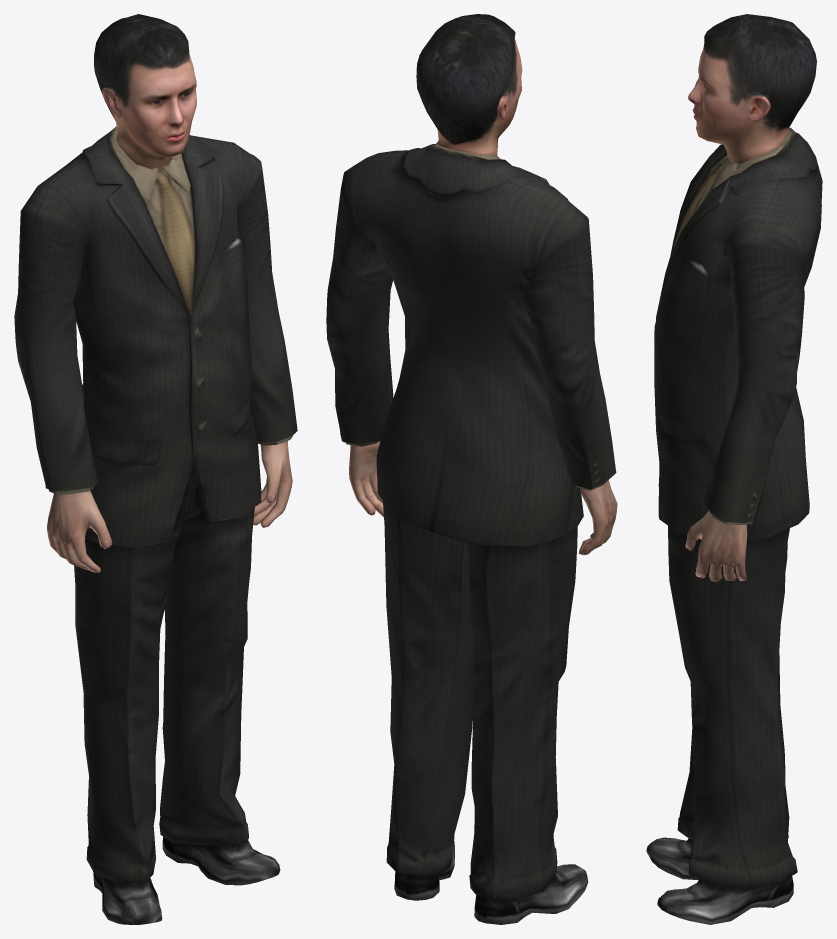
File: man.gltf
The picture shows the model from 3 angles, left to right: view 1: azimuth 30°, elevation 25°; view 2: azimuth 150°, elevation 25°; view 3: azimuth 270°, elevation 25°; orthographic projection. The views are drawn at different scales.
Parts seen in each view (by area): view 1: Lo-办公男_01; view 2: Lo-办公男_01; view 3: Lo-办公男_01.
Boxes of the visible parts, left/top/right/bottom form: Lo-办公男_01: left=14, top=14, right=297, bottom=924; Lo-办公男_01: left=326, top=14, right=617, bottom=924; Lo-办公男_01: left=646, top=14, right=822, bottom=924.
Size of the model in its own units: 0.5753 by 1.84 by 0.3375.
1 material, 1 textured.
